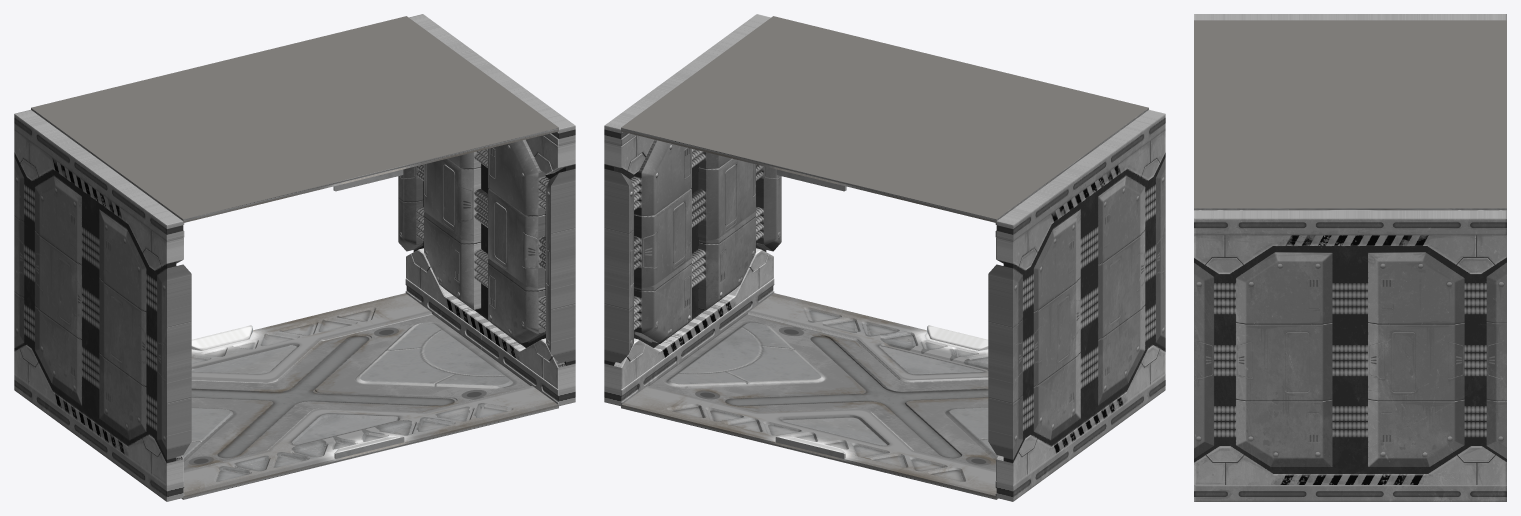
Rendered from Lab_Set_1.fbx.
The picture shows the model from 3 angles, left to right: view 1: azimuth 30°, elevation 25°; view 2: azimuth 150°, elevation 25°; view 3: azimuth 270°, elevation 25°; orthographic projection. The views are drawn at different scales.
Visible parts, largest first — view 1: Lab_Set_1; view 2: Lab_Set_1; view 3: Lab_Set_1.
Boxes of the visible parts, x1,y1,x2,y2 form: Lab_Set_1: (14, 14, 575, 501); Lab_Set_1: (604, 14, 1165, 501); Lab_Set_1: (1194, 14, 1506, 501).
Bounding box in the file's own units: 2970 × 1947 × 1920.
Materials: 3 (3 with a texture image).
